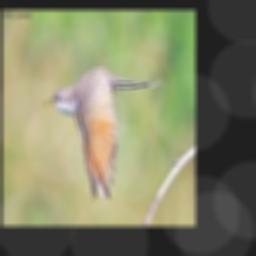Cuckoo: (44, 67, 164, 203)
